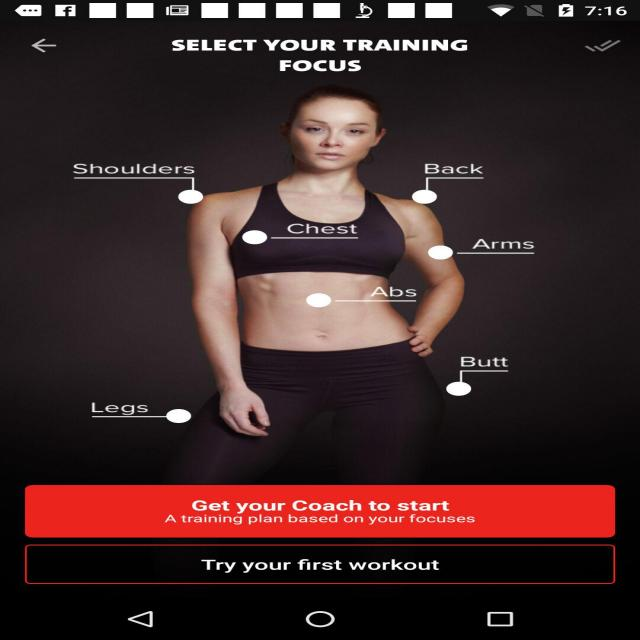button: (35, 539, 617, 585)
icon: (20, 34, 80, 65), (574, 36, 625, 56)
image: (21, 83, 612, 479)
text: (175, 36, 485, 74), (156, 501, 486, 528), (197, 551, 463, 575), (53, 162, 199, 185), (463, 351, 531, 381), (88, 398, 175, 420), (294, 220, 371, 244), (418, 160, 480, 186), (468, 235, 538, 258), (363, 289, 427, 303)
